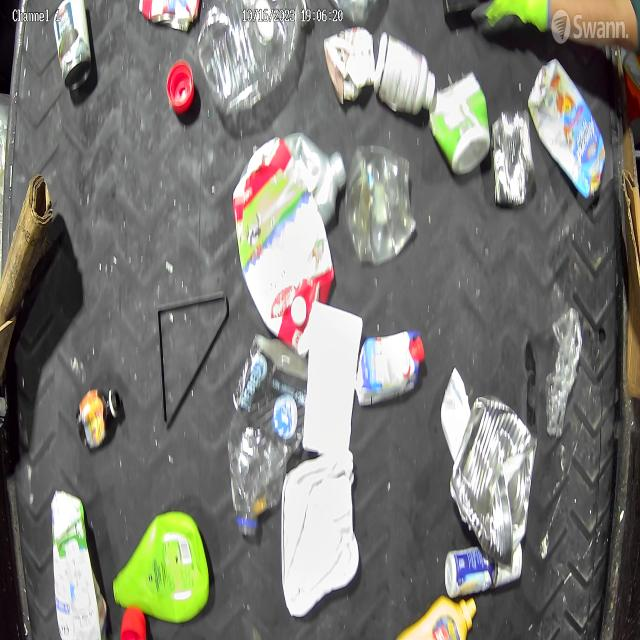can: (449, 392, 535, 562), (492, 105, 532, 211), (53, 0, 94, 92), (136, 0, 201, 30)
non_white_jug: (232, 141, 336, 345), (528, 59, 608, 200), (112, 507, 211, 620), (51, 489, 109, 640), (356, 329, 425, 412), (397, 594, 477, 640)
plastic_bottle: (228, 338, 310, 538), (197, 0, 310, 117)
